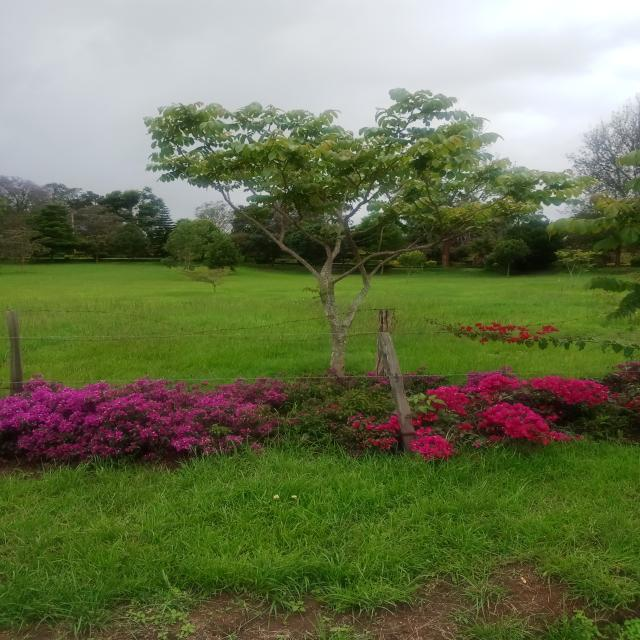Polyscias Kikuyensis: (146, 84, 580, 380)
